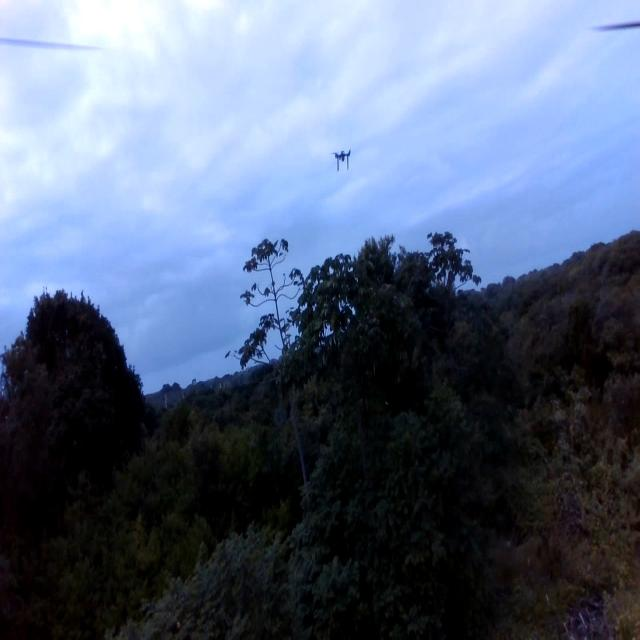-uav-: (327, 133, 365, 193)
